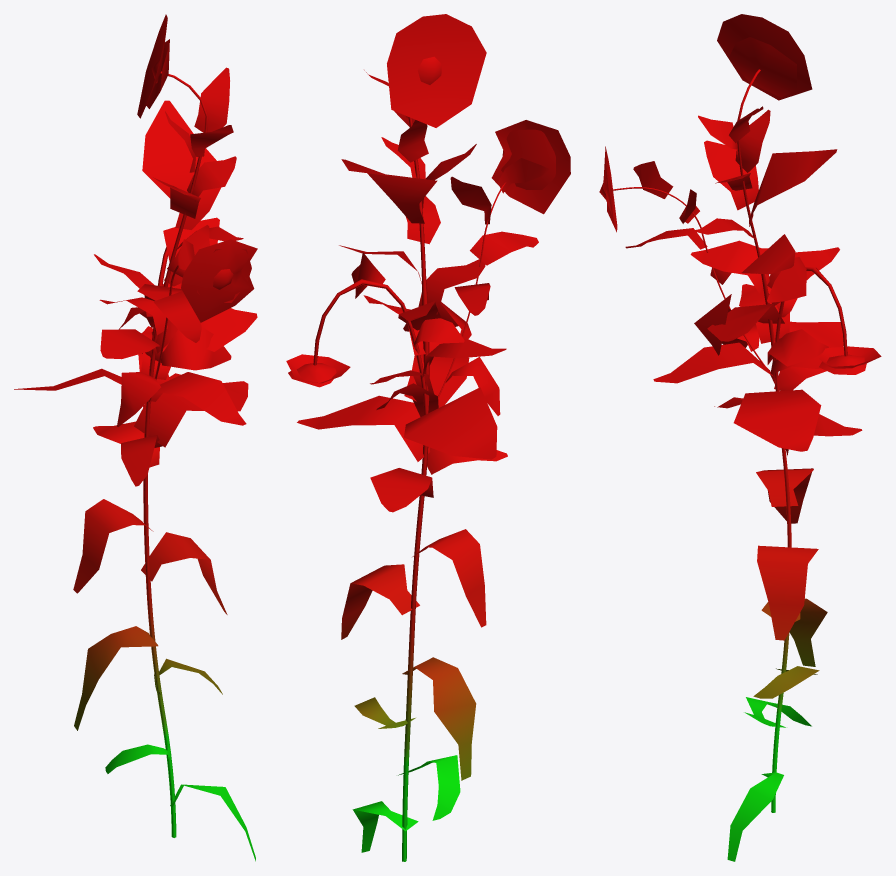
The model's file is Var7_LOD1.fbx.
The picture shows the model from 3 angles, left to right: view 1: azimuth 30°, elevation 25°; view 2: azimuth 150°, elevation 25°; view 3: azimuth 270°, elevation 25°; orthographic projection. The views are drawn at different scales.
Visible parts, largest first — view 1: _da7c_Var7_LOD1; view 2: _da7c_Var7_LOD1; view 3: _da7c_Var7_LOD1.
Boxes of the visible parts, left/top/right/bottom form: _da7c_Var7_LOD1: left=14, top=14, right=257, bottom=861; _da7c_Var7_LOD1: left=286, top=14, right=570, bottom=861; _da7c_Var7_LOD1: left=599, top=14, right=881, bottom=861.
Bounding box in the file's own units: 21.15 × 80.11 × 25.3.
